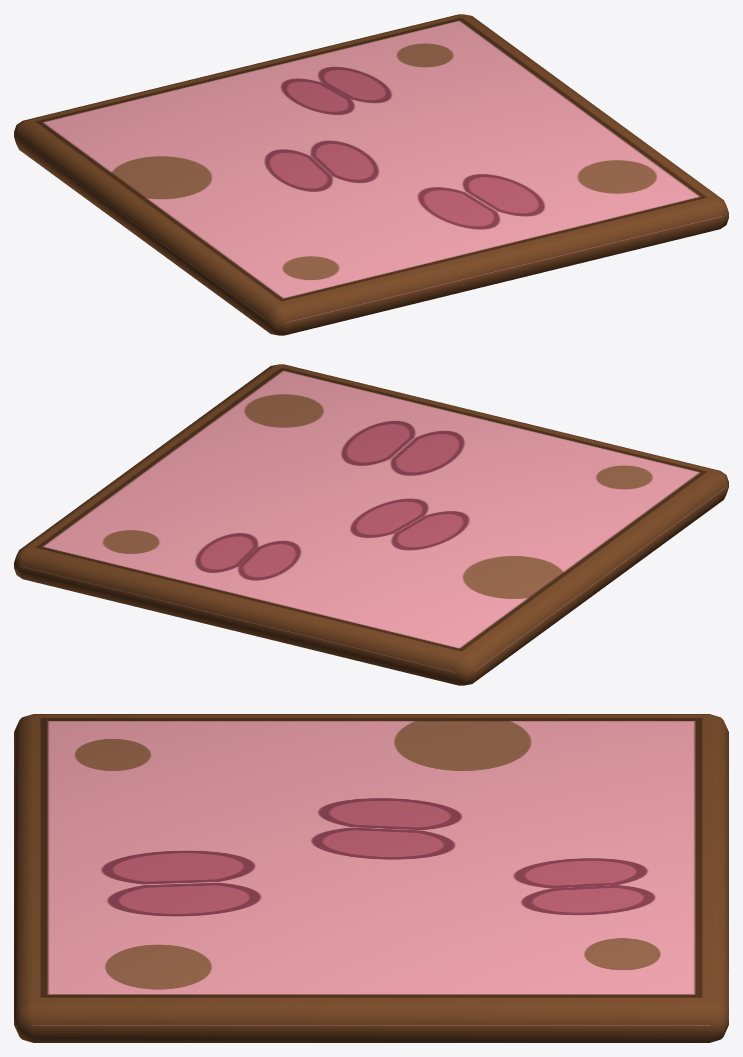
Rendered from PigGate_Tile.fbx.
3 renders of one model, top to bottom at view 1: azimuth 30°, elevation 25°; view 2: azimuth 150°, elevation 25°; view 3: azimuth 270°, elevation 25°, orthographic. The views are drawn at different scales.
Visible parts, largest first — view 1: PigGate_Tile; view 2: PigGate_Tile; view 3: PigGate_Tile.
Boxes of the visible parts, x1=… form: PigGate_Tile: x1=14, y1=14, x2=728, y2=335; PigGate_Tile: x1=14, y1=364, x2=728, y2=685; PigGate_Tile: x1=14, y1=714, x2=728, y2=1042.
Bounding box in the file's own units: 0.94 × 0.06 × 0.94.
1 material, 1 textured.
